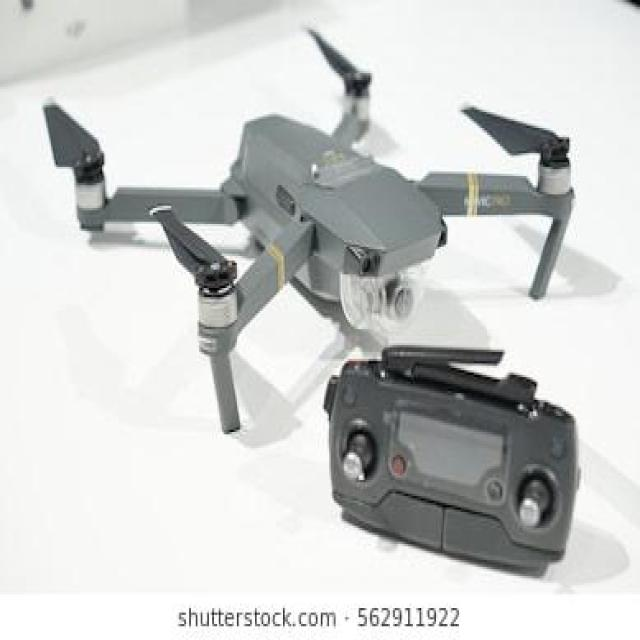drone: (41, 22, 610, 456)
